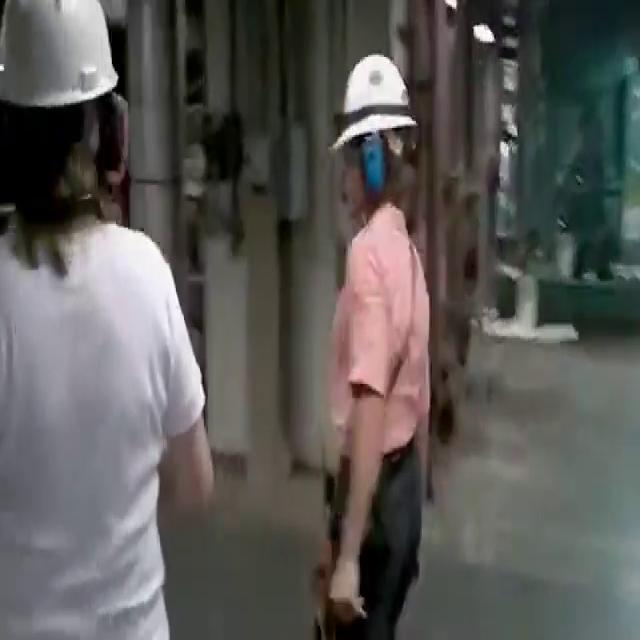earmuff: (97, 87, 134, 192), (359, 128, 392, 209)
helmet: (325, 49, 421, 162)
